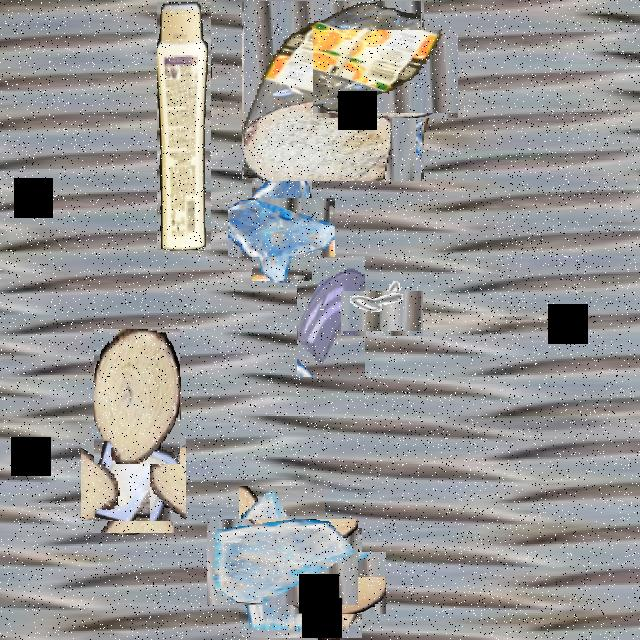glass: (222, 502, 342, 622), (297, 256, 365, 377), (240, 186, 324, 269)
metal: (350, 281, 414, 345)
plastic: (243, 1, 423, 180), (157, 2, 211, 250), (86, 433, 180, 527)
wood: (326, 16, 444, 133), (94, 329, 180, 464), (288, 540, 374, 626)
